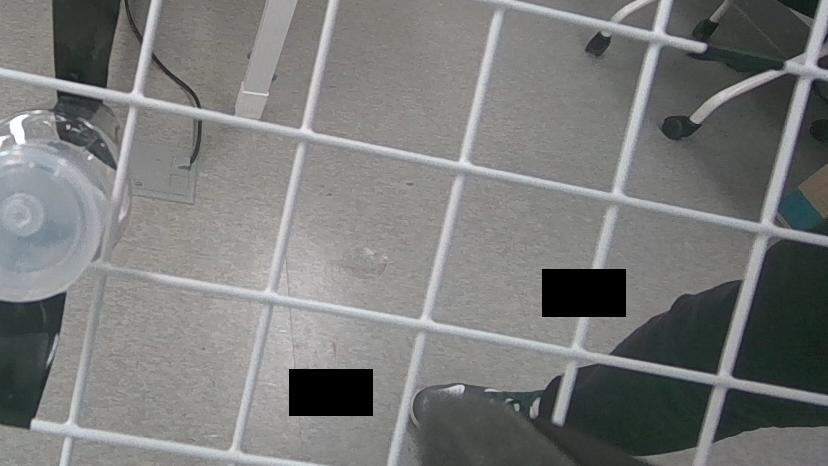Cap: (0, 150, 99, 302)
